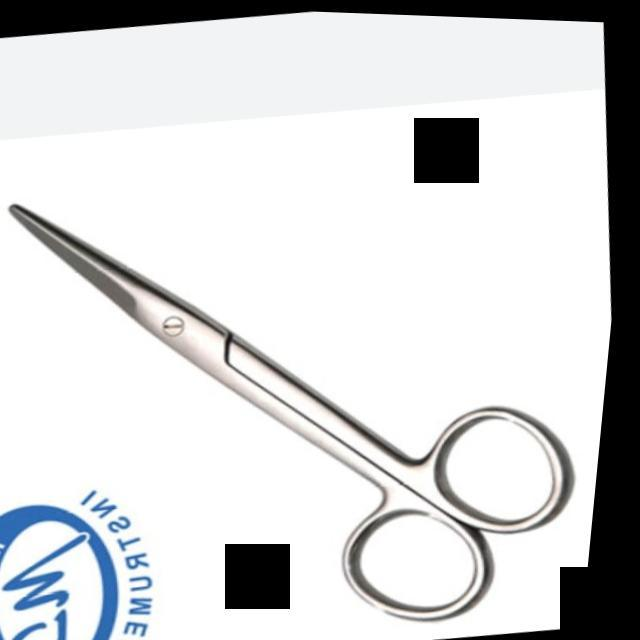Straight Mayo: (0, 128, 627, 640)
